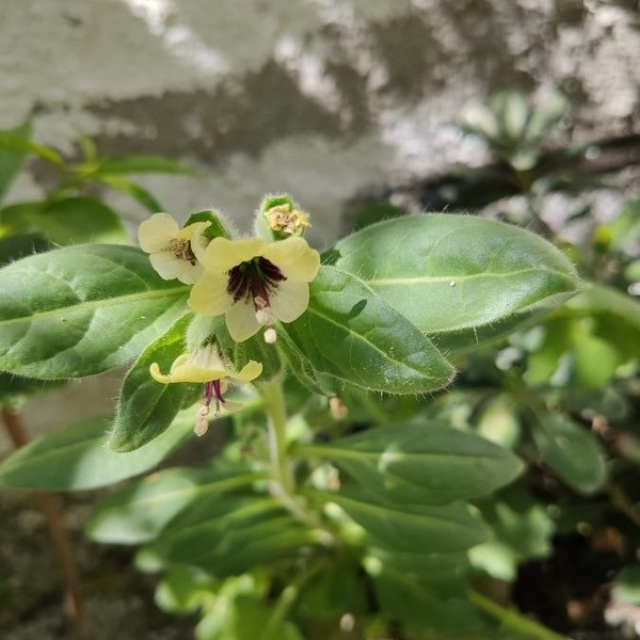obstacle: (25, 195, 499, 618)
